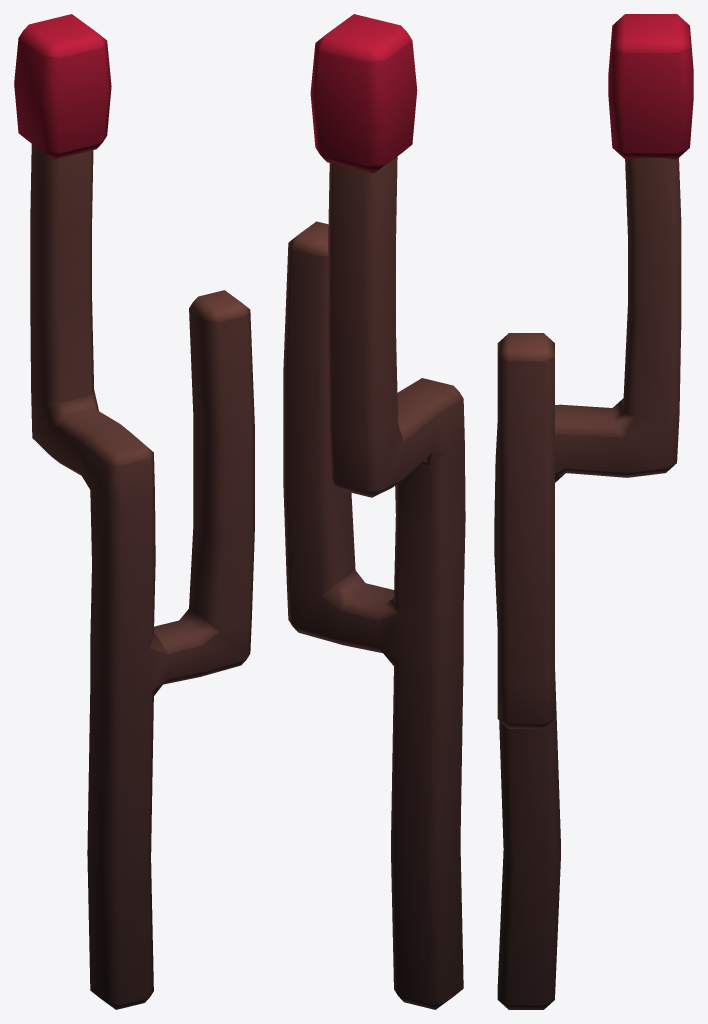
Rendered from shrub_07.fbx.
3 renders of one model, left to right at view 1: azimuth 30°, elevation 25°; view 2: azimuth 150°, elevation 25°; view 3: azimuth 270°, elevation 25°, orthographic. The views are drawn at different scales.
Parts seen in each view (by area): view 1: shrub_07; view 2: shrub_07; view 3: shrub_07.
Boxes of the visible parts, box(x1,y1,x2,y2) form: shrub_07: box(14, 14, 254, 1009); shrub_07: box(283, 14, 465, 1009); shrub_07: box(494, 14, 693, 1009).
Size of the model in its own units: 44 by 245 by 45.3.
